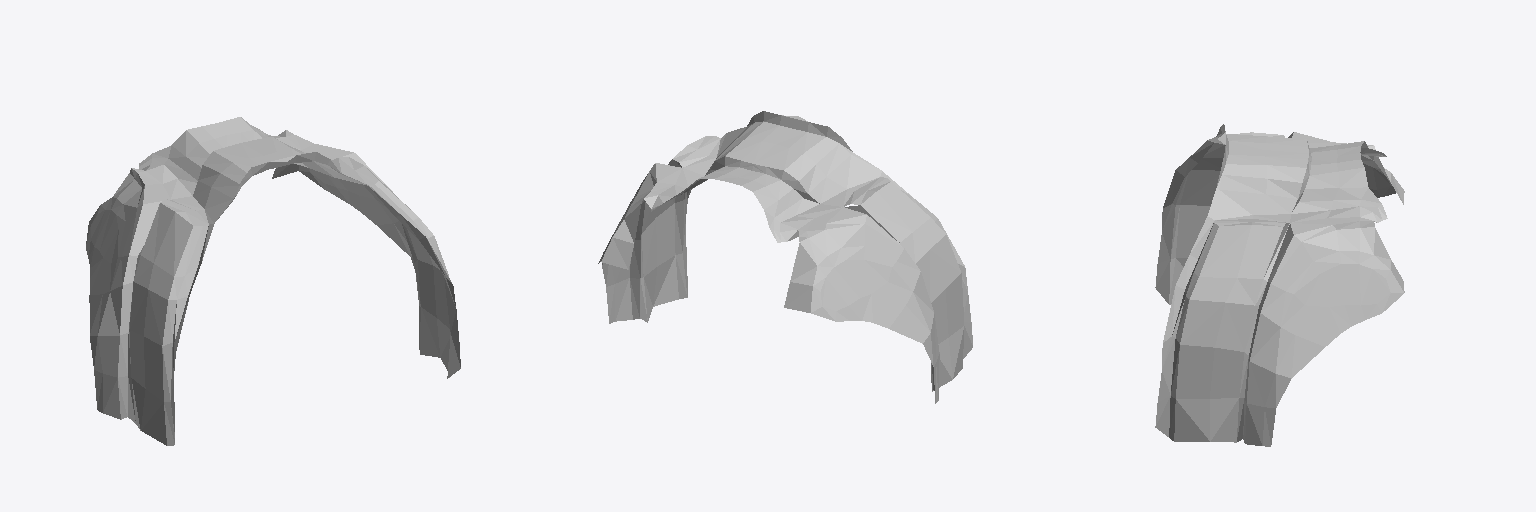
Rendered from X02LowerBodyFront.obj.
The picture shows the model from 3 angles: view 1: azimuth 30°, elevation 25°; view 2: azimuth 150°, elevation 25°; view 3: azimuth 270°, elevation 25°; orthographic projection.
Parts seen in each view (by area): view 1: CPA; view 2: CPA; view 3: CPA.
Part boxes in pixels (bbox=[...]): CPA: bbox=[86, 117, 460, 445]; CPA: bbox=[598, 111, 972, 403]; CPA: bbox=[1155, 124, 1404, 446].
Bounding box in the file's own units: 32.62 × 22.34 × 21.5.